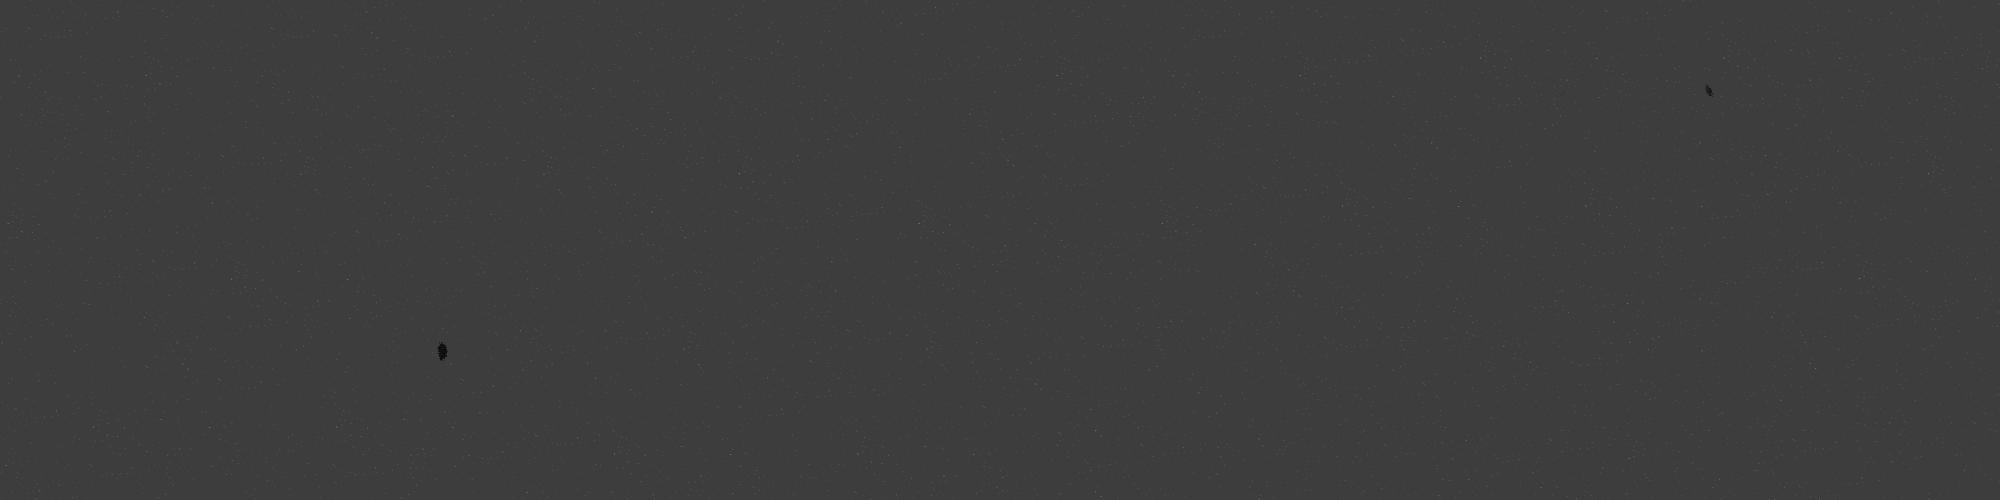Decomposed: (431, 334, 460, 372)
